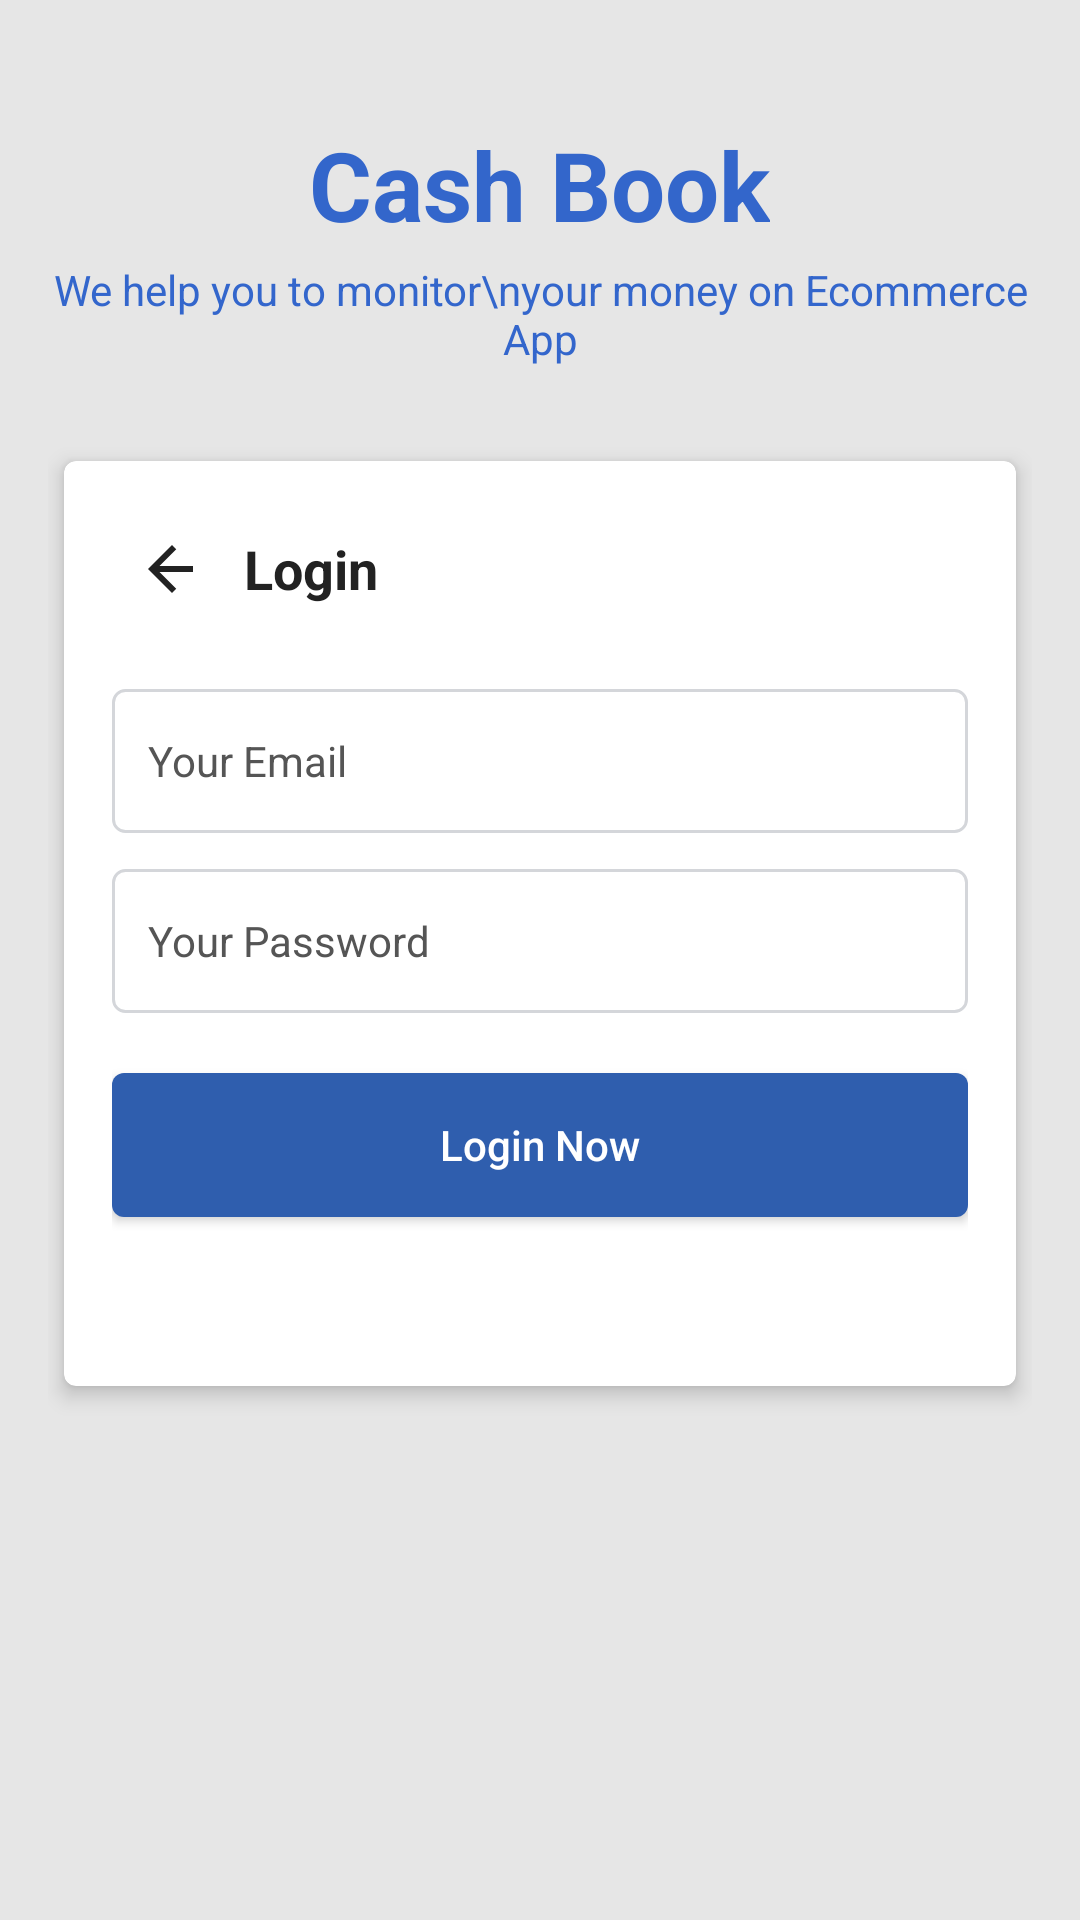

Icons on this 1080 × 1920 Android screen, each with its box as {"x1": x1, "y1": y1, "x2": x2, "y2": y2}:
Back: {"x1": 148, "y1": 545, "x2": 193, "y2": 593}
